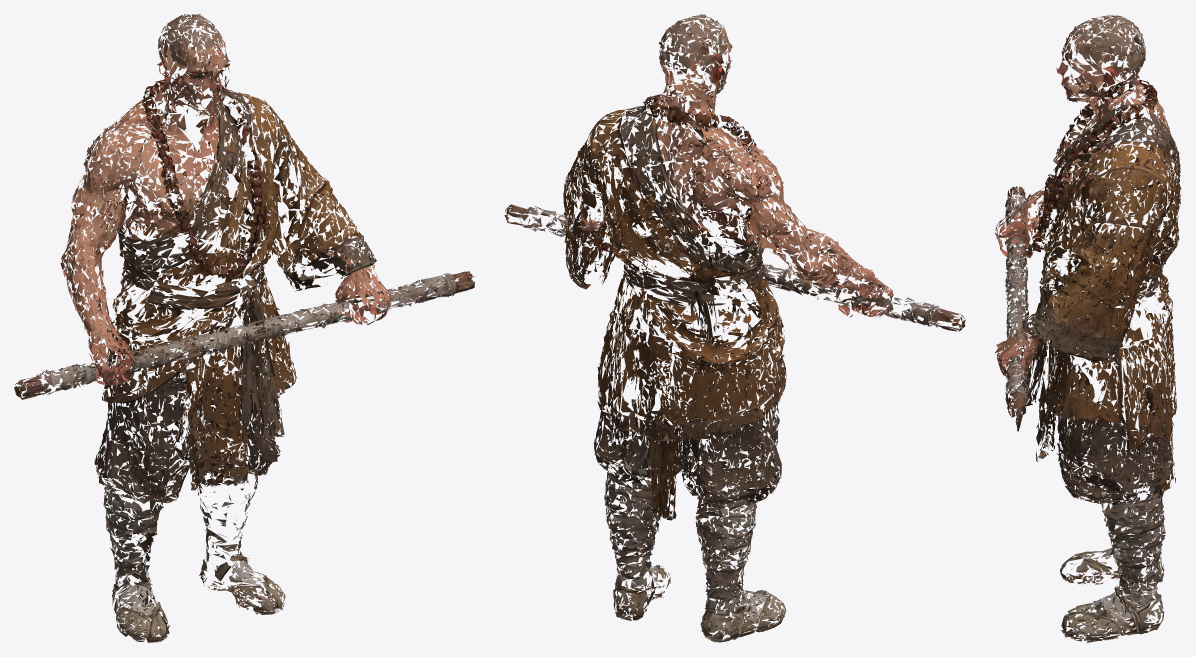
File: monk_hero.glb
3 renders of one model, left to right at view 1: azimuth 30°, elevation 25°; view 2: azimuth 150°, elevation 25°; view 3: azimuth 270°, elevation 25°, orthographic.
Visible parts, largest first — view 1: tripo_node_baa12e13-3057-42f4-809c-59e708e76474; view 2: tripo_node_baa12e13-3057-42f4-809c-59e708e76474; view 3: tripo_node_baa12e13-3057-42f4-809c-59e708e76474.
Boxes of the visible parts, <box> form: tripo_node_baa12e13-3057-42f4-809c-59e708e76474: <box>14,14,474,642</box>; tripo_node_baa12e13-3057-42f4-809c-59e708e76474: <box>504,14,965,642</box>; tripo_node_baa12e13-3057-42f4-809c-59e708e76474: <box>994,14,1181,642</box>.
Bounding box in the file's own units: 1.57 × 1.95 × 0.562.
Materials: 1 (1 with a texture image).
